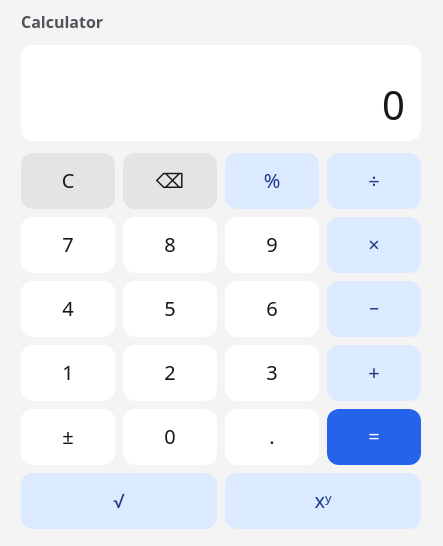
it: App › shows the backend error message and clears it on the next digit
The width and height of the screenshot is (443, 546).
Step 1. Click the button "1" → x=68, y=373, box [21,345,115,401]
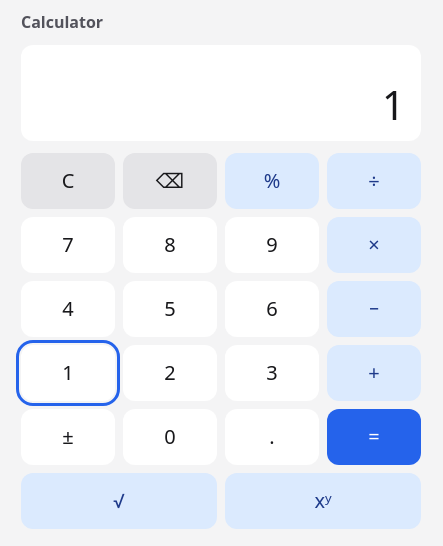
Step 2. Click the button named "divide" → x=374, y=181, box [327,153,421,209]
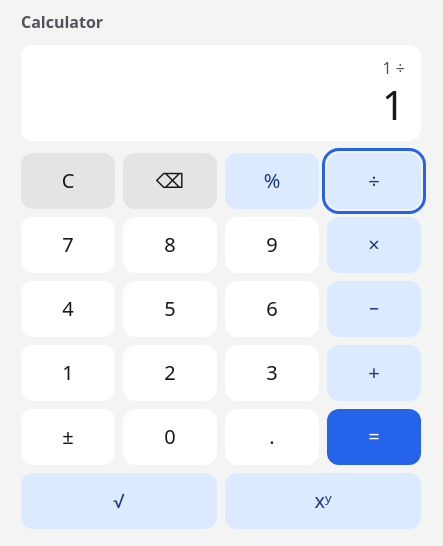
Step 3. Click the button "0" → x=170, y=437, box [123,409,217,465]
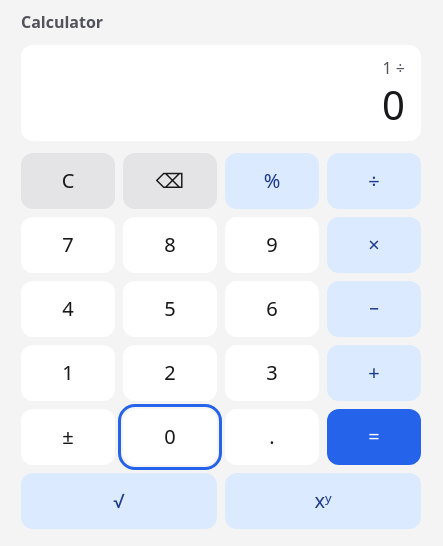
Step 4. Click the button named "equals" → x=374, y=437, box [327,409,421,465]
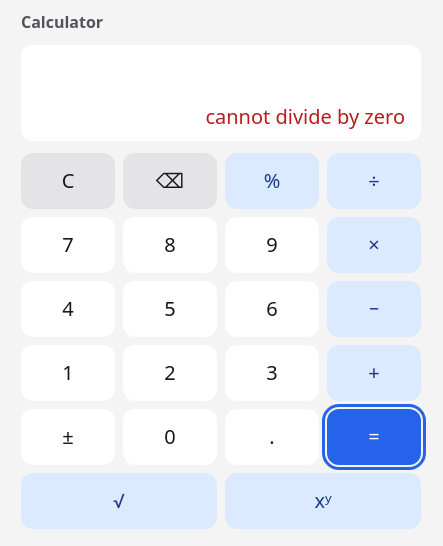
Check: the text with class "display__main" reads "cannot divide by zero", box [205,103,405,130]
Step 5. Click the button "7" → x=68, y=245, box [21,217,115,273]
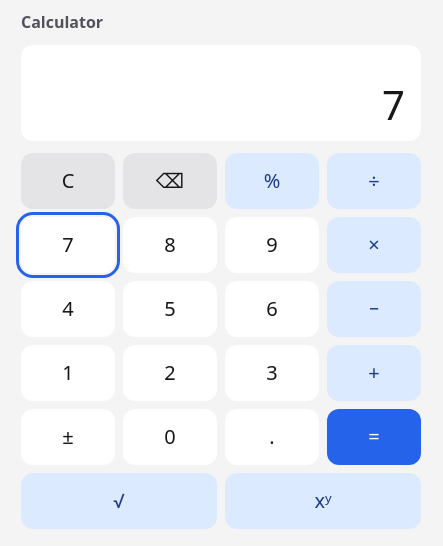
Check: the text with class "display__main" reads "7", box [382,77,405,132]
